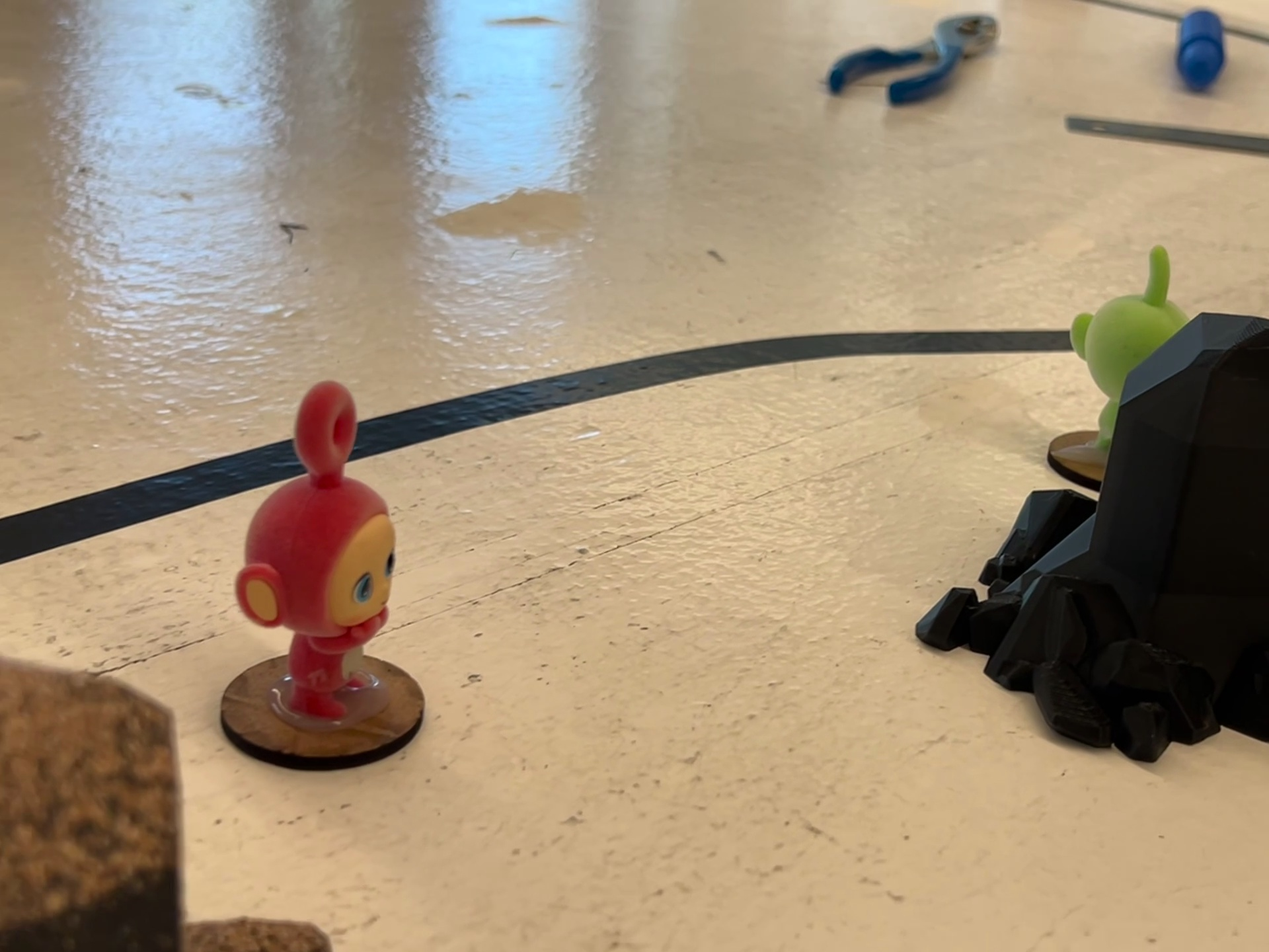teletubby: (235, 381, 395, 723), (1071, 246, 1188, 452)
